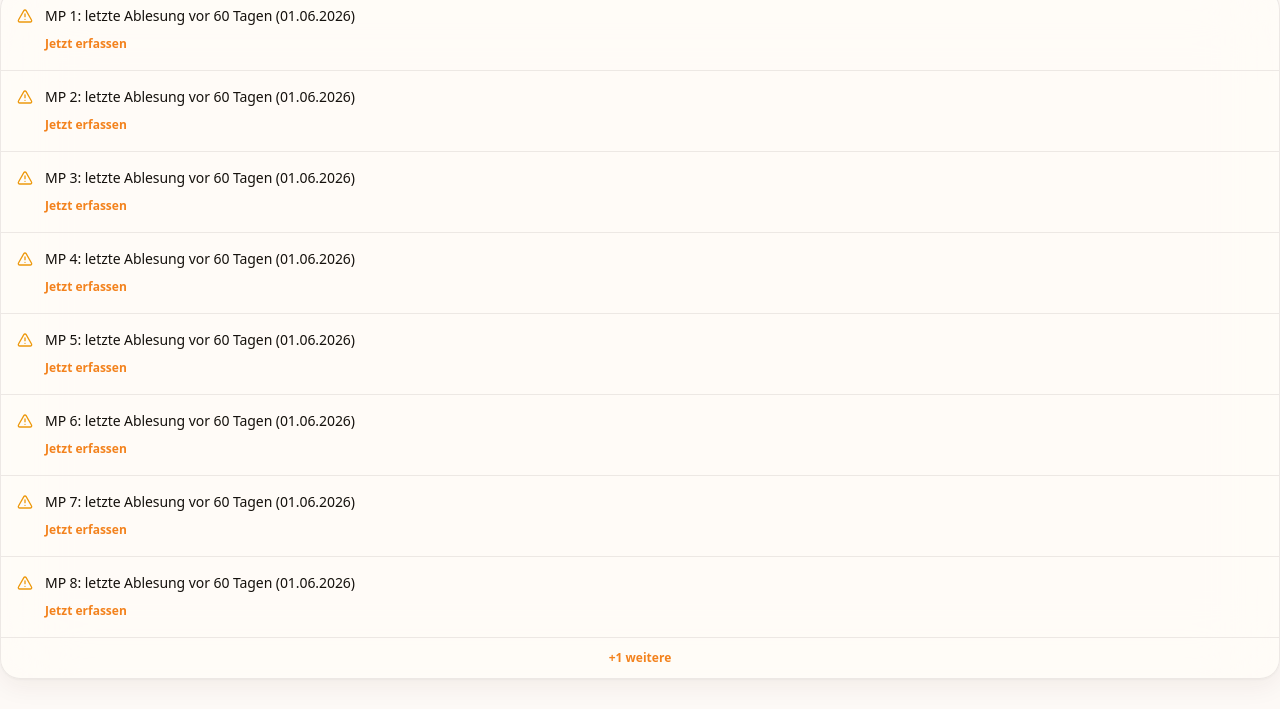
DueCard / DeviationsCard › zeigt ab 9 Einträgen ein Toggle, das den Rest ein- und wieder ausblendet
This screenshot has width=1280, height=709.
Expected: the text "MP 9: letzte Ablesung vor 60 Tagen (01.06.2026)" is not shown
Click the button "+1 weitere": (640, 658) [1,637,1279,678]
(page scrolled)
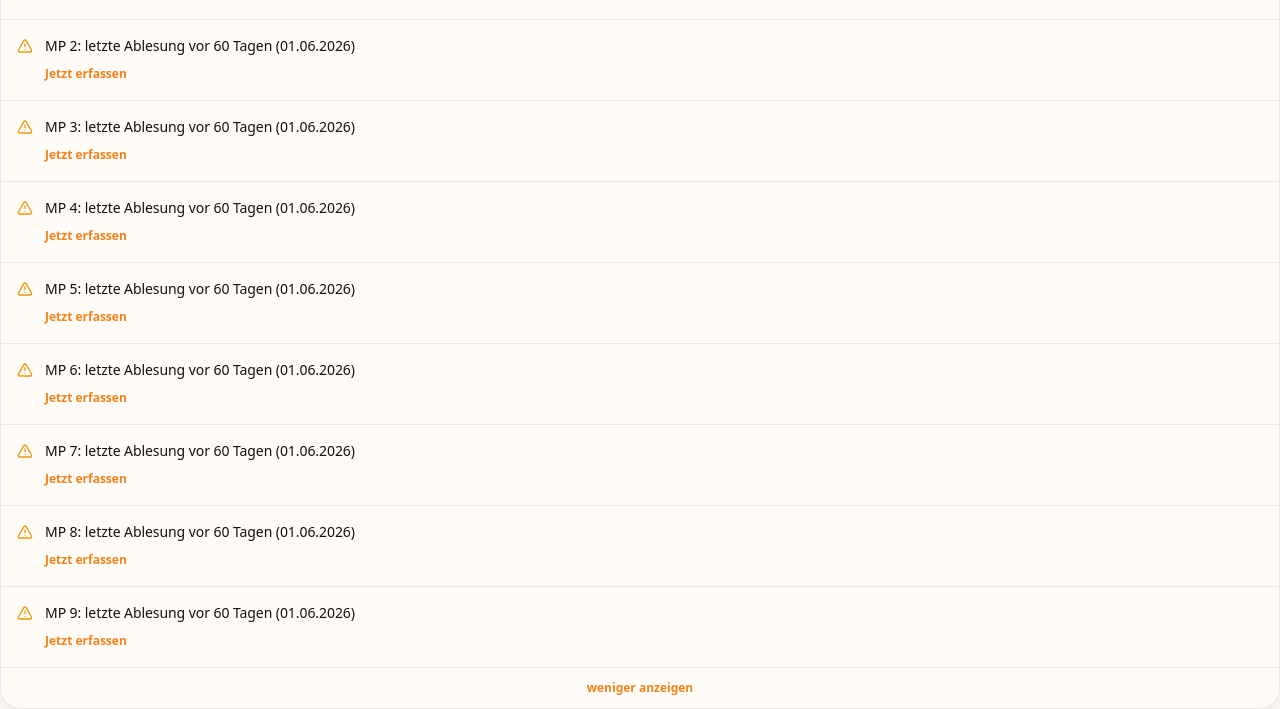
Result: the text "MP 9: letzte Ablesung vor 60 Tagen (01.06.2026)" is shown at [45,603,355,622]
Click the button "weniger anzeigen": (640, 688) [1,667,1279,708]
(page scrolled)
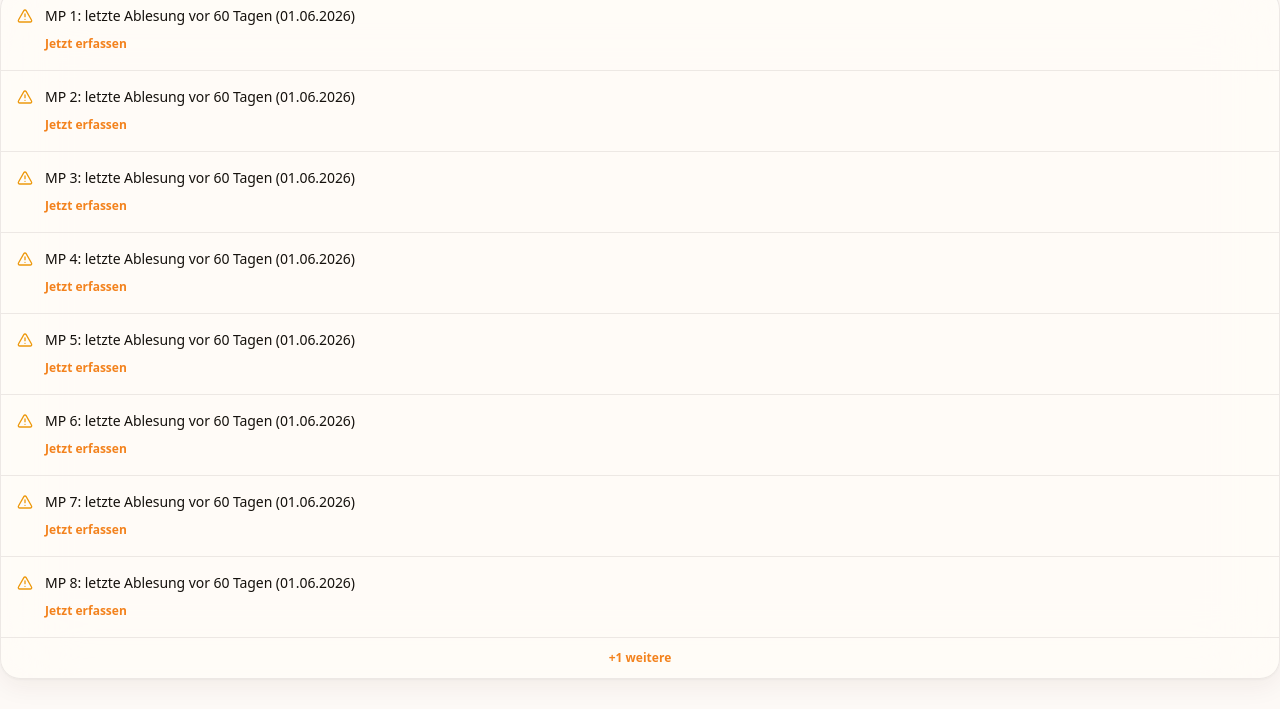
Result: the text "MP 9: letzte Ablesung vor 60 Tagen (01.06.2026)" is gone
Result: the button "+1 weitere" is shown at [1,637,1279,678]
